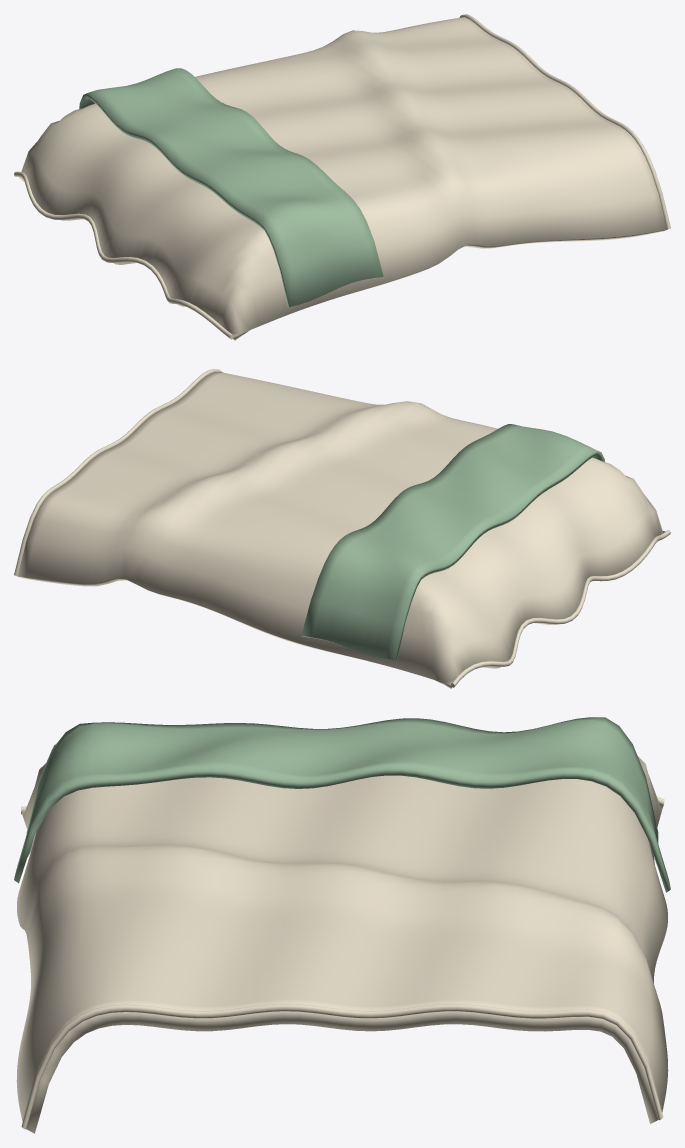
The model's file is HotelH04_H06StyleBedding.fbx.
3 renders of one model, top to bottom at view 1: azimuth 30°, elevation 25°; view 2: azimuth 150°, elevation 25°; view 3: azimuth 270°, elevation 25°, orthographic. The views are drawn at different scales.
Parts seen in each view (by area): view 1: Matched H06 | Lofted duvet with draped foot and side hems, Matched H06 | Folded slate bed runner, Matched H06 | Duvet bound hem.001, Matched H06 | Duvet bound hem; view 2: Matched H06 | Lofted duvet with draped foot and side hems, Matched H06 | Folded slate bed runner, Matched H06 | Duvet bound hem.001, Matched H06 | Duvet bound hem; view 3: Matched H06 | Lofted duvet with draped foot and side hems, Matched H06 | Folded slate bed runner, Matched H06 | Duvet bound hem.
Boxes of the visible parts, x1,y1,x2,y2 form: Matched H06 | Lofted duvet with draped foot and side hems: (19,17,666,340); Matched H06 | Folded slate bed runner: (79,68,383,307); Matched H06 | Duvet bound hem.001: (14,171,233,339); Matched H06 | Duvet bound hem: (459,14,670,229); Matched H06 | Lofted duvet with draped foot and side hems: (18,372,665,688); Matched H06 | Folded slate bed runner: (301,424,604,660); Matched H06 | Duvet bound hem.001: (451,530,670,687); Matched H06 | Duvet bound hem: (14,369,222,576); Matched H06 | Lofted duvet with draped foot and side hems: (16,744,668,1133); Matched H06 | Folded slate bed runner: (14,717,670,892); Matched H06 | Duvet bound hem: (21,1004,663,1129).
Size of the model in its own units: 1.36 by 0.2961 by 1.13.
